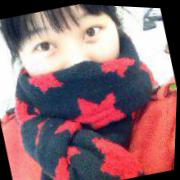WRONG: (9, 1, 139, 133)
